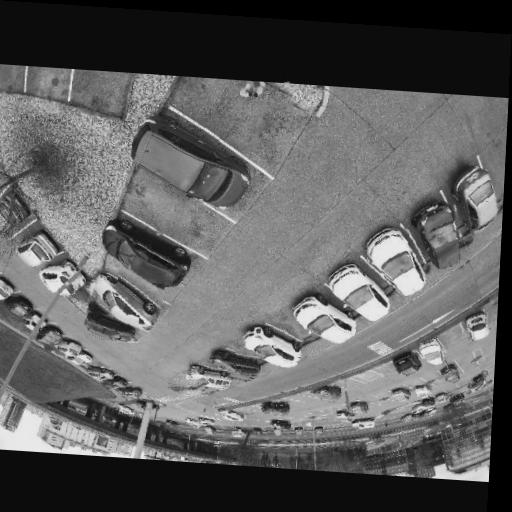busy: (130, 123, 259, 213), (100, 223, 192, 289), (409, 197, 478, 276), (363, 223, 435, 298), (328, 259, 394, 322), (88, 277, 164, 329), (454, 166, 505, 241), (290, 290, 358, 344), (241, 323, 303, 368), (34, 258, 81, 297), (85, 312, 140, 342), (210, 350, 260, 382), (13, 233, 55, 267), (186, 363, 232, 393), (460, 307, 491, 342), (415, 338, 448, 365), (167, 377, 205, 399), (391, 352, 422, 376), (309, 382, 342, 403), (259, 399, 291, 419), (6, 296, 35, 318), (33, 324, 62, 346), (84, 365, 116, 382), (54, 338, 82, 357), (438, 365, 460, 385), (388, 386, 412, 403), (24, 312, 47, 329), (118, 385, 144, 400), (101, 375, 127, 390), (220, 407, 245, 422), (0, 276, 14, 302), (413, 381, 433, 398), (113, 401, 135, 416), (469, 374, 487, 391), (349, 401, 368, 415), (333, 410, 352, 422), (433, 392, 449, 406), (185, 417, 202, 428), (199, 417, 215, 427)
free: (209, 81, 297, 138), (152, 198, 208, 236), (116, 268, 166, 298), (234, 344, 262, 362), (283, 318, 307, 336), (292, 392, 319, 407), (379, 363, 401, 379), (445, 329, 462, 344), (336, 378, 357, 390), (359, 370, 378, 382)
